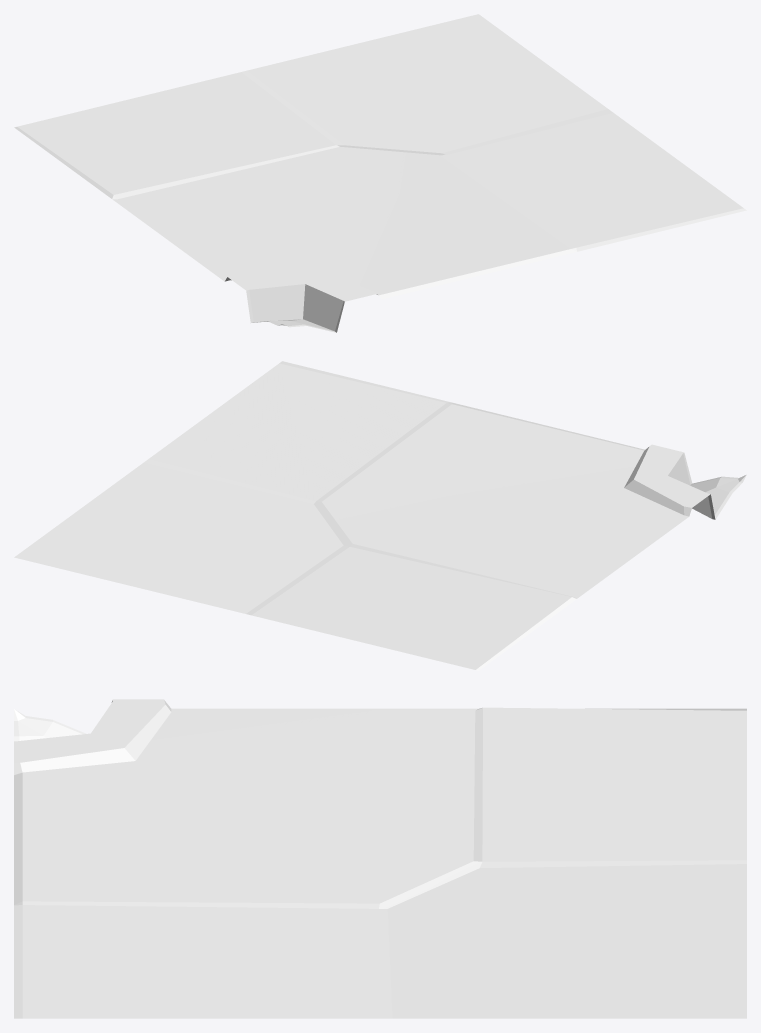
File: SM_Env_Sidewalk_Corner_02.glb
The picture shows the model from 3 angles, top to bottom: view 1: azimuth 30°, elevation 25°; view 2: azimuth 150°, elevation 25°; view 3: azimuth 270°, elevation 25°; orthographic projection. The views are drawn at different scales.
Visible parts, largest first — view 1: SM_Env_Sidewalk_Corner_02; view 2: SM_Env_Sidewalk_Corner_02; view 3: SM_Env_Sidewalk_Corner_02.
Part boxes in pixels (x1,y1,x2,y2): SM_Env_Sidewalk_Corner_02: (14, 14, 746, 332); SM_Env_Sidewalk_Corner_02: (14, 361, 746, 670); SM_Env_Sidewalk_Corner_02: (14, 699, 746, 1018).
Bounding box in the file's own units: 0.05 × 0.003 × 0.05.
Materials: 1 (1 with a texture image).
